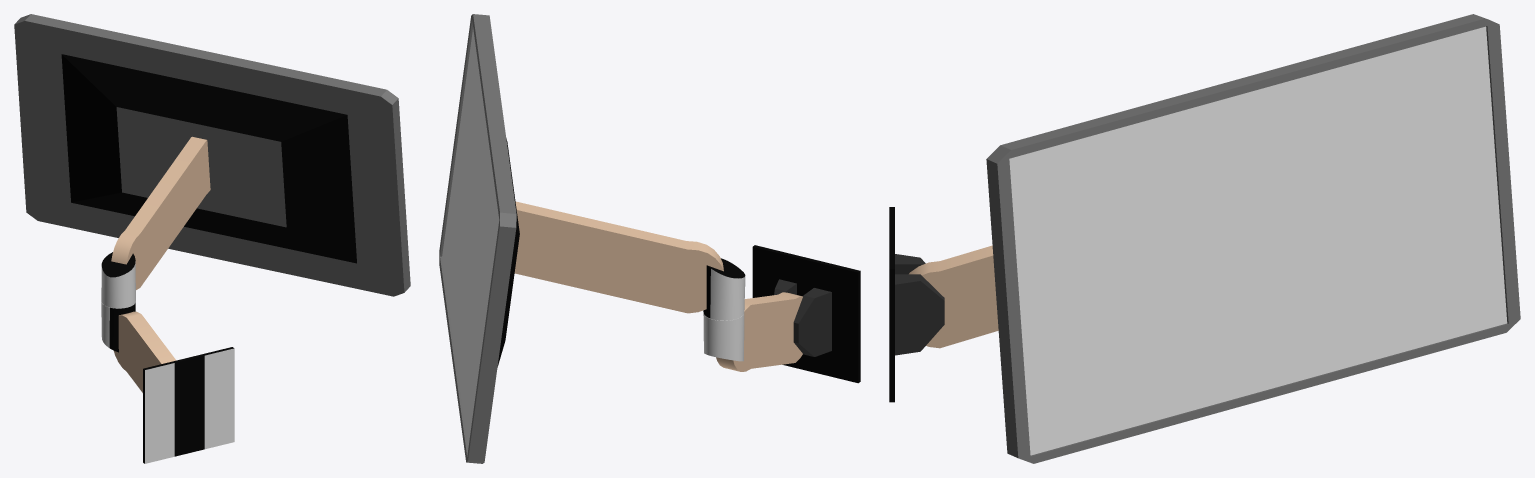
The model's file is Warning Monitior.fbx.
3 views of the same model, side by side, from view 1: azimuth 30°, elevation 25°; view 2: azimuth 150°, elevation 25°; view 3: azimuth 270°, elevation 25° (orthographic). The views are drawn at different scales.
Visible parts, largest first — view 1: Warning Monitor, Monitor Arm; view 2: Monitor Arm, Warning Screen, Warning Monitor; view 3: Warning Screen, Warning Monitor, Monitor Arm.
Part boxes in pixels (x1,y1,x2,y2): Warning Monitor: [14, 14, 410, 296]; Monitor Arm: [101, 136, 234, 463]; Monitor Arm: [514, 201, 860, 383]; Warning Screen: [442, 27, 499, 448]; Warning Monitor: [439, 14, 519, 463]; Warning Screen: [1009, 26, 1507, 455]; Warning Monitor: [986, 14, 1520, 463]; Monitor Arm: [889, 207, 998, 402].
Bounding box in the file's own units: 99.74 × 83.62 × 123.
